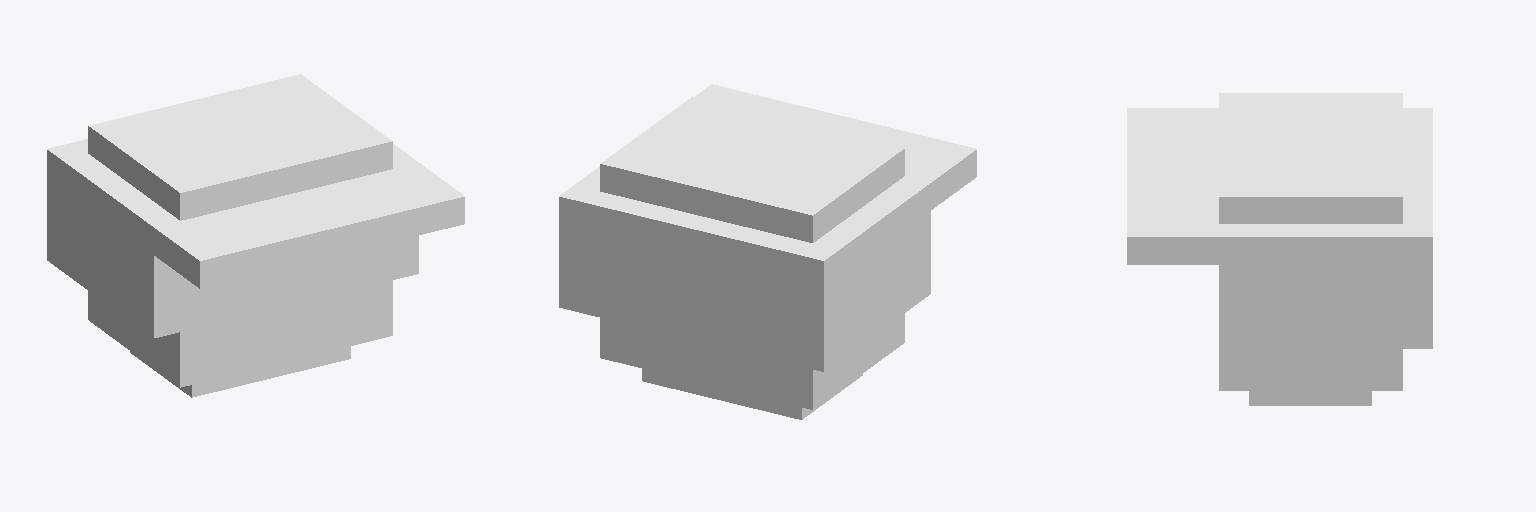
The model's file is civil1-4.obj.
3 renders of one model, left to right at view 1: azimuth 30°, elevation 25°; view 2: azimuth 150°, elevation 25°; view 3: azimuth 270°, elevation 25°, orthographic.
Visible parts, largest first — view 1: object 1; view 2: object 1; view 3: object 1.
Part boxes in pixels (x1,y1,x2,y2): object 1: (47,74,464,397); object 1: (559,84,976,419); object 1: (1127,93,1432,405).
Bounding box in the file's own units: 1 × 0.8 × 1.